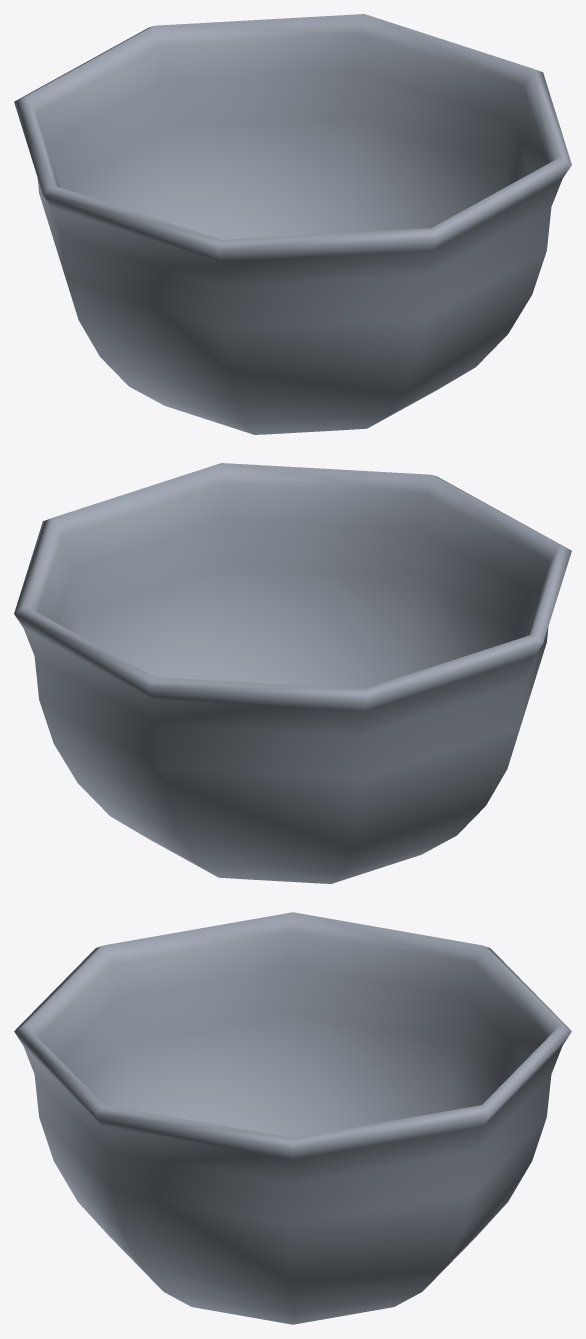
Rendered from mbowl_mixing_bowl_008.glb.
3 renders of one model, top to bottom at view 1: azimuth 30°, elevation 25°; view 2: azimuth 150°, elevation 25°; view 3: azimuth 270°, elevation 25°, orthographic. The views are drawn at different scales.
Visible parts, largest first — view 1: mbowl mixing bowl.008; view 2: mbowl mixing bowl.008; view 3: mbowl mixing bowl.008.
Boxes of the visible parts, <box> form: mbowl mixing bowl.008: <box>14,14,571,434</box>; mbowl mixing bowl.008: <box>14,463,571,883</box>; mbowl mixing bowl.008: <box>14,912,571,1324</box>.
Bounding box in the file's own units: 2.81 × 1.5 × 2.81.
1 material, 1 textured.
